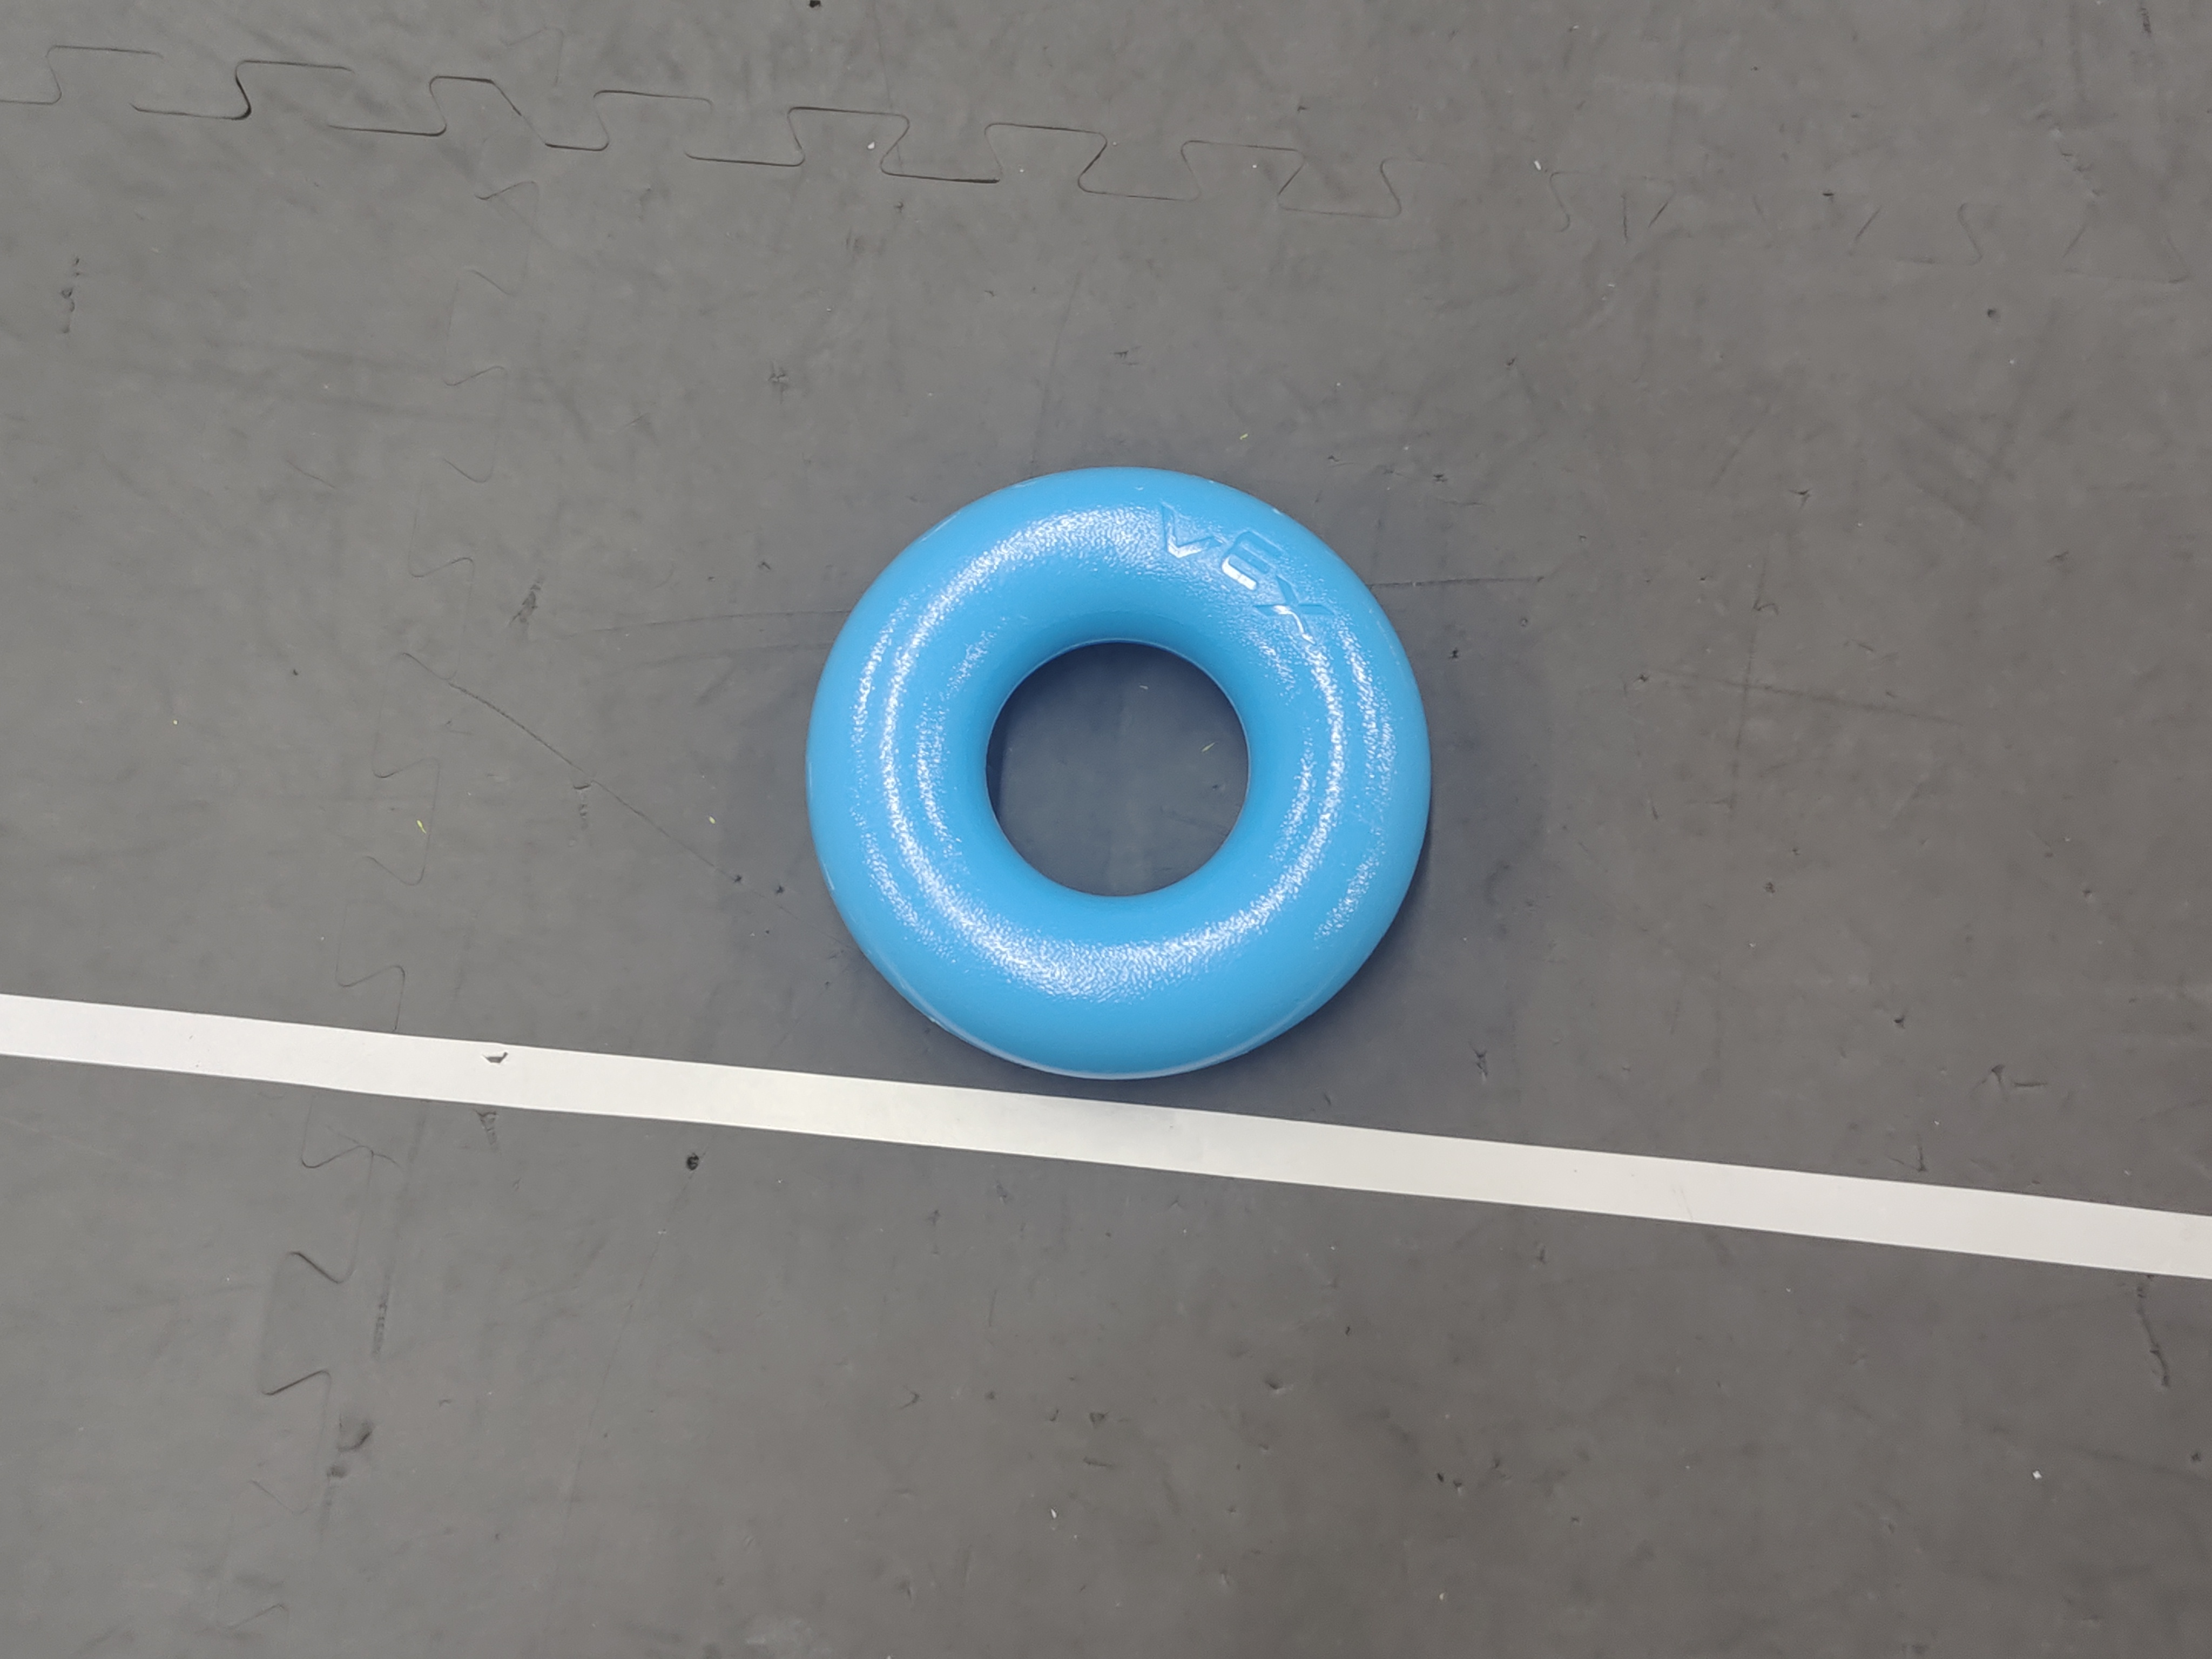blue: (815, 464, 1442, 1080)
